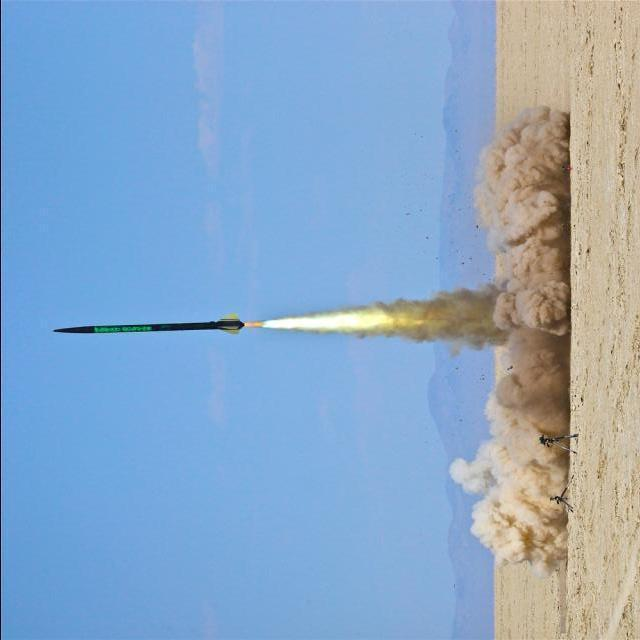missile: (53, 311, 263, 353)
